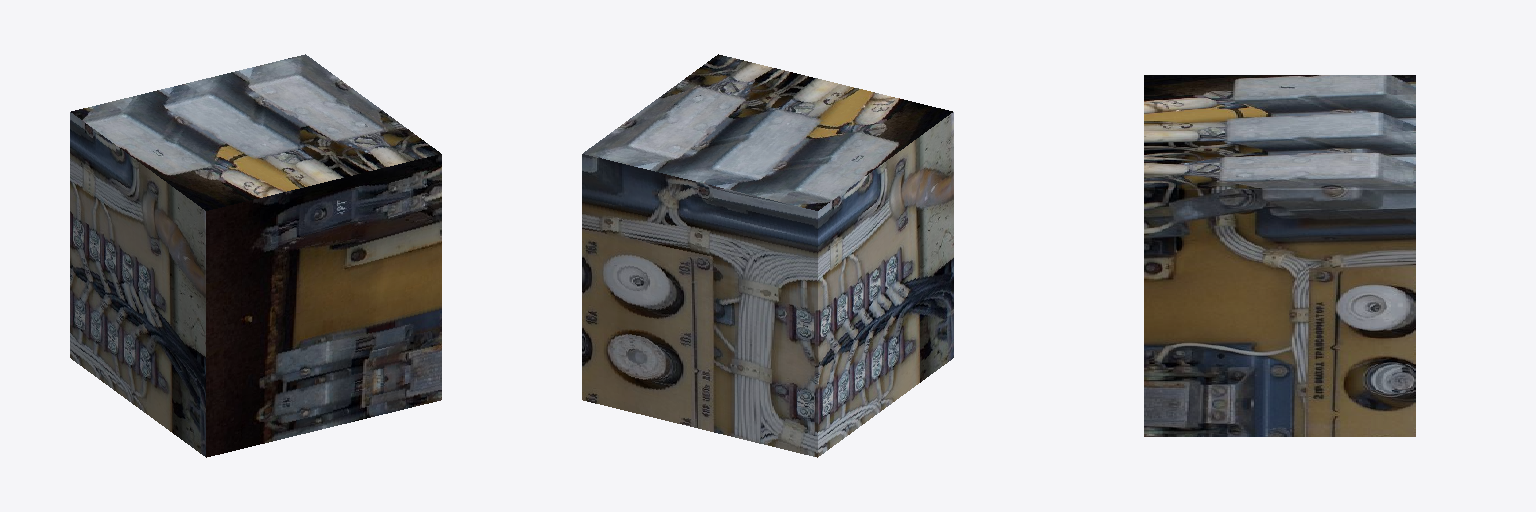
3 renders of one model, left to right at view 1: azimuth 30°, elevation 25°; view 2: azimuth 150°, elevation 25°; view 3: azimuth 270°, elevation 25°, orthographic.
Visible parts, largest first — view 1: Cube; view 2: Cube; view 3: Cube.
Part boxes in pixels (x1,y1,x2,y2): Cube: (70,54,441,457); Cube: (582,54,953,457); Cube: (1144,75,1415,436).
Bounding box in the file's own units: 2 × 2 × 2.
1 materials, 1 textured.